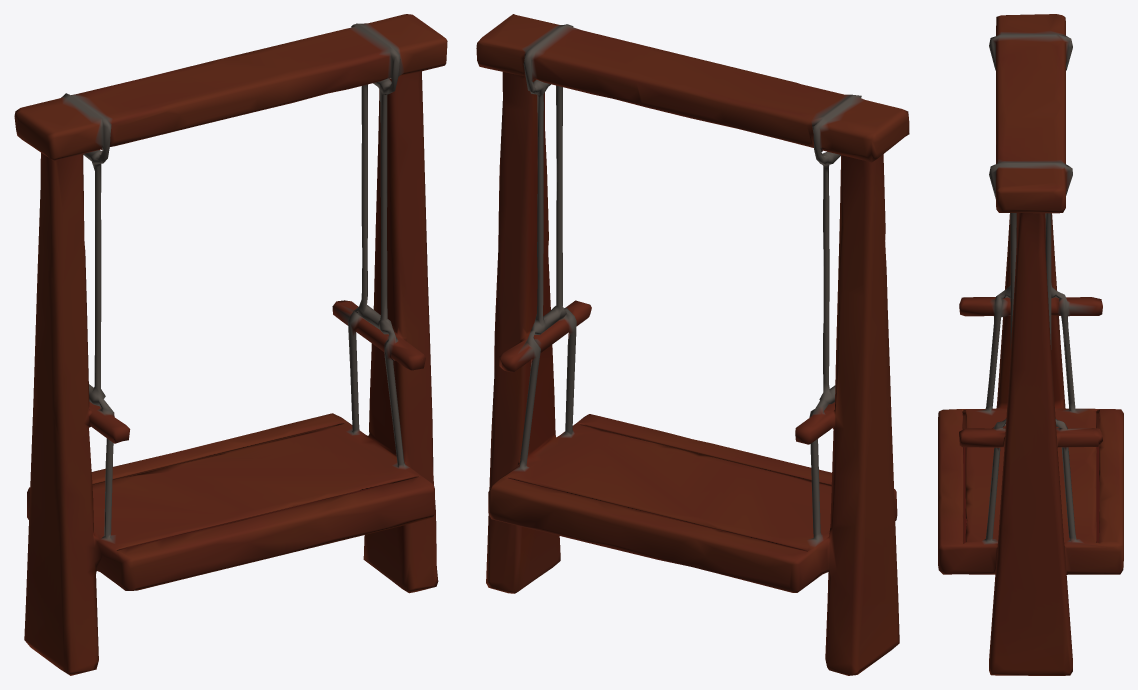
The model's file is gen3d-wooden-swing-lod0.glb.
3 renders of one model, left to right at view 1: azimuth 30°, elevation 25°; view 2: azimuth 150°, elevation 25°; view 3: azimuth 270°, elevation 25°, orthographic. The views are drawn at different scales.
Visible parts, largest first — view 1: part_0; view 2: part_0; view 3: part_0.
Part boxes in pixels (x1,y1,x2,y2): part_0: (14, 14, 447, 675); part_0: (476, 14, 909, 675); part_0: (938, 14, 1123, 675).
Bounding box in the file's own units: 0.7654 × 0.9997 × 0.3392.
